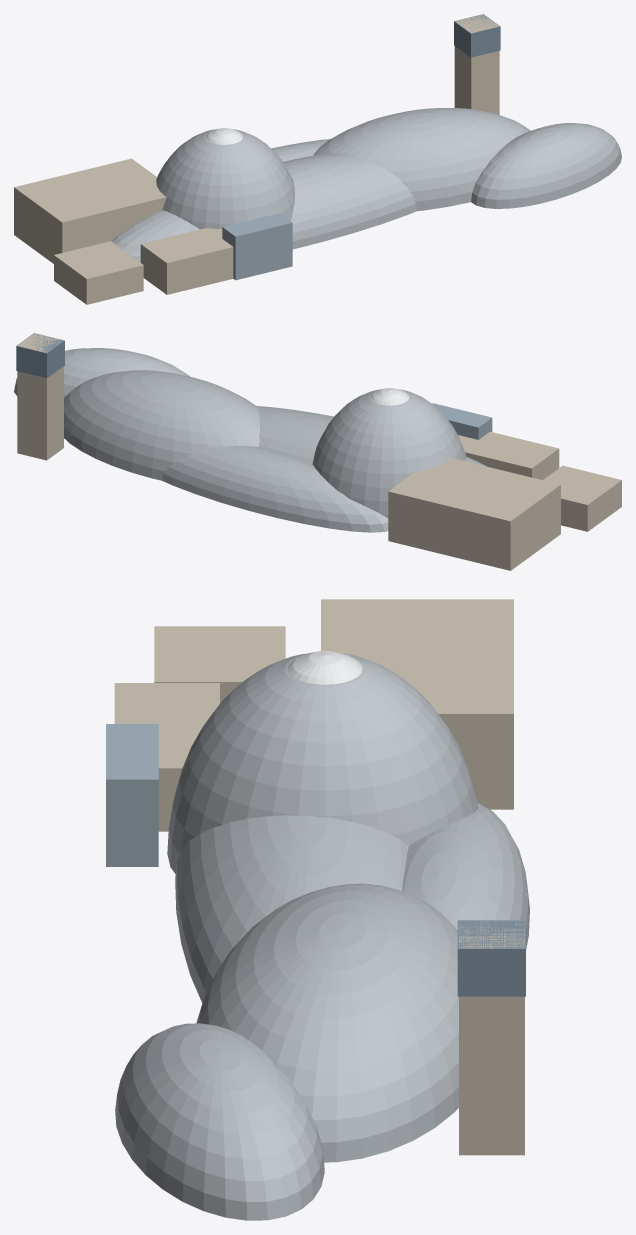
File: guggenheim.glb
3 renders of one model, top to bottom at view 1: azimuth 30°, elevation 25°; view 2: azimuth 150°, elevation 25°; view 3: azimuth 270°, elevation 25°, orthographic. The views are drawn at different scales.
Size of the model in its own units: 293 by 52 by 96.69.
